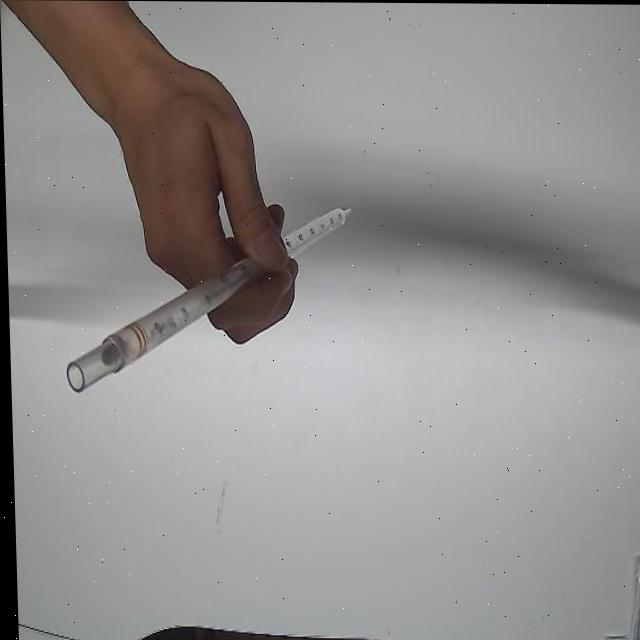Serelogical Pipet 10 mL: (56, 198, 361, 400)
